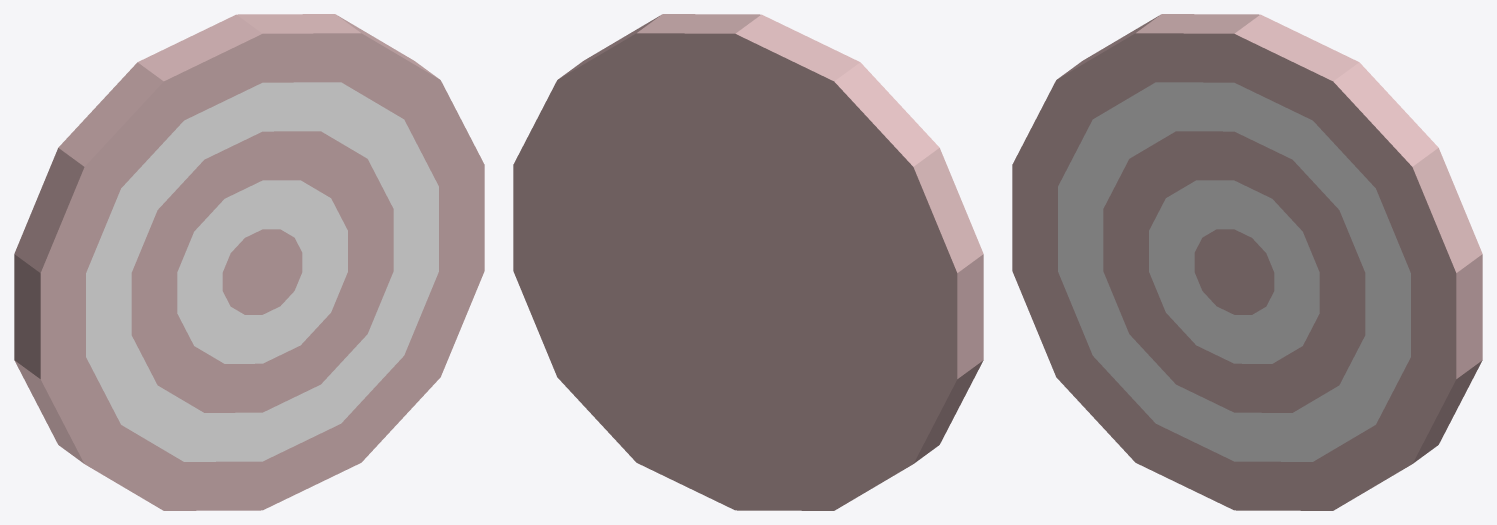
File: target.fbx
3 renders of one model, left to right at view 1: azimuth 30°, elevation 25°; view 2: azimuth 150°, elevation 25°; view 3: azimuth 330°, elevation 25°, orthographic.
Visible parts, largest first — view 1: Circle; view 2: Circle; view 3: Circle.
Part boxes in pixels (bbox=[...]): Circle: bbox=[14, 14, 484, 510]; Circle: bbox=[513, 14, 983, 510]; Circle: bbox=[1012, 14, 1482, 510].
Size of the model in its own units: 292 by 300 by 30.
Materials: 1 (1 with a texture image).
